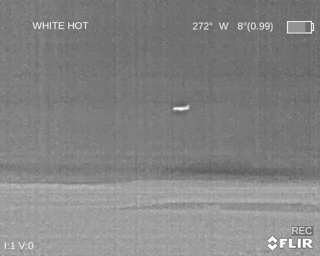AIRPLANE: (172, 104, 191, 112)
